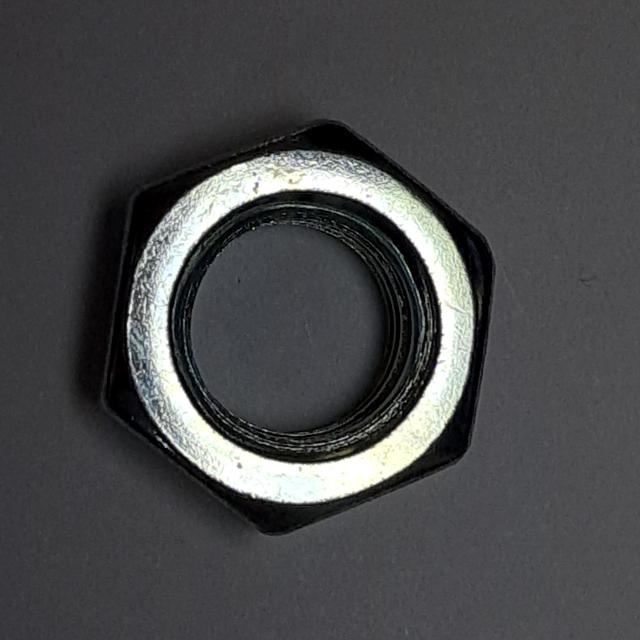Excellent: (83, 104, 509, 550)
